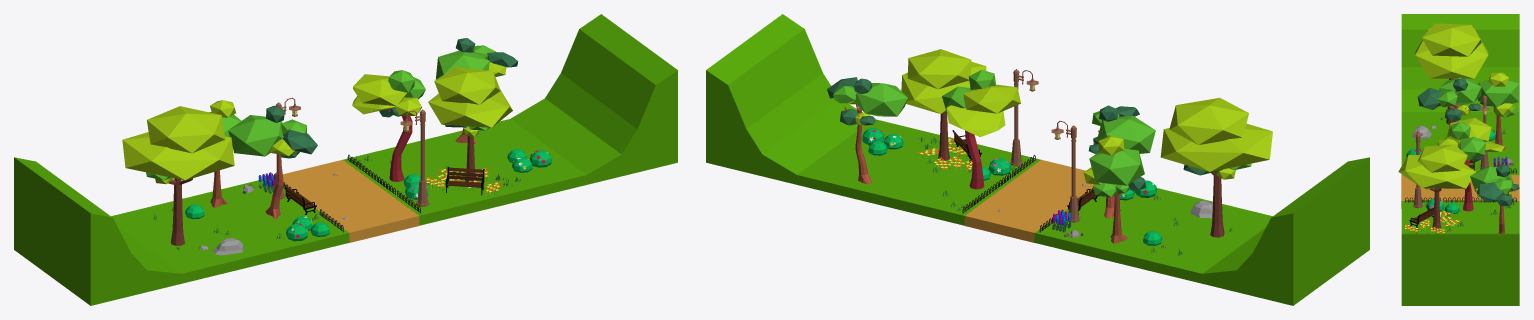
Rendered from road1.fbx.
3 renders of one model, left to right at view 1: azimuth 30°, elevation 25°; view 2: azimuth 150°, elevation 25°; view 3: azimuth 270°, elevation 25°, orthographic. The views are drawn at different scales.
Visible parts, largest first — view 1: Plane.013; view 2: Plane.013; view 3: Plane.013.
Part boxes in pixels (left/top/right/bottom): Plane.013: left=14, top=14, right=677, bottom=305; Plane.013: left=706, top=14, right=1369, bottom=305; Plane.013: left=1398, top=14, right=1519, bottom=305.
Bounding box in the file's own units: 16759 × 3742 × 3894.
